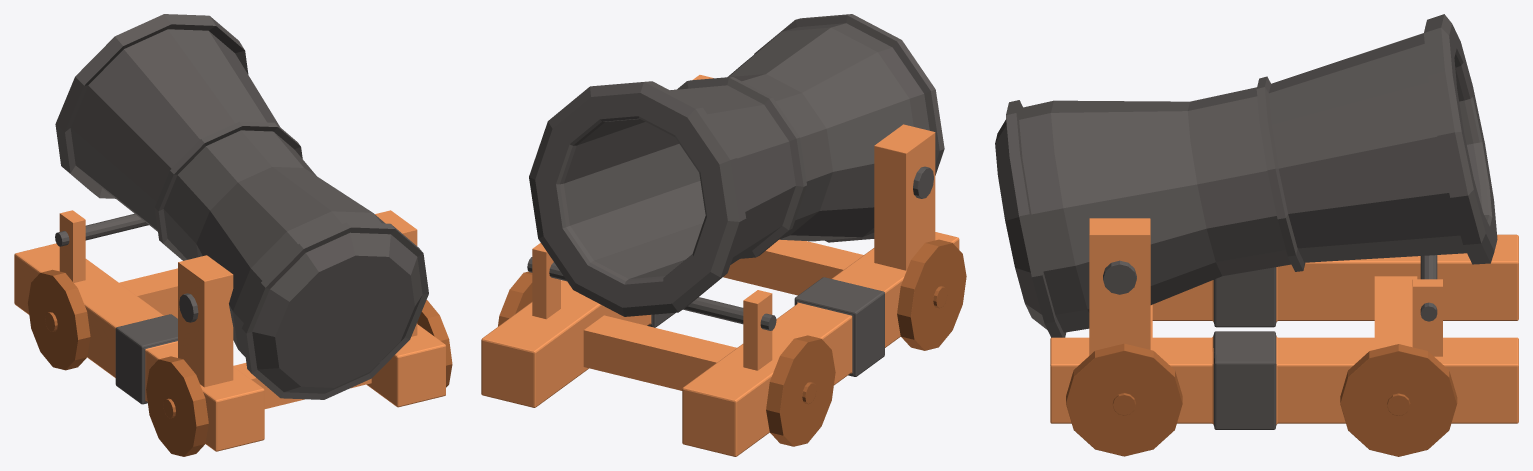
Rendered from Canon1.fbx.
3 views of the same model, side by side, from view 1: azimuth 30°, elevation 25°; view 2: azimuth 150°, elevation 25°; view 3: azimuth 270°, elevation 25° (orthographic). The views are drawn at different scales.
Visible parts, largest first — view 1: Cylinder.004, Cube.001, Cube.004, Cylinder, Cylinder.001, Cube, Cube.002, Cube.006, Cylinder.006, Cylinder.003, Cube.003, Cube.005 (+1 smaller); view 2: Cylinder.004, Cube.001, Cube, Cube.004, Cube.002, Cylinder, Cylinder.001, Cube.003, Cube.006, Cube.007, Cylinder.006, Cylinder.002 (+1 smaller); view 3: Cylinder.004, Cube, Cube.001, Cylinder.002, Cylinder.003, Cube.005, Cube.002, Cube.007, Cylinder.005, Cylinder.006.
Boxes of the visible parts, <box> form: Cylinder.004: <box>55,14,428,399</box>; Cube.001: <box>14,243,264,451</box>; Cube.004: <box>178,255,233,387</box>; Cylinder: <box>27,269,90,370</box>; Cylinder.001: <box>146,356,208,456</box>; Cube: <box>366,324,445,407</box>; Cube.002: <box>119,268,177,318</box>; Cube.006: <box>59,210,85,282</box>; Cylinder.006: <box>55,213,148,246</box>; Cylinder.003: <box>417,300,452,387</box>; Cube.003: <box>233,363,371,408</box>; Cube.005: <box>375,210,417,336</box>; Cylinder.004: <box>529,14,944,316</box>; Cube.001: <box>682,232,959,456</box>; Cube: <box>481,280,675,407</box>; Cube.004: <box>874,124,935,270</box>; Cube.002: <box>583,315,736,390</box>; Cylinder: <box>766,335,835,446</box>; Cylinder.001: <box>897,239,966,350</box>; Cube.003: <box>723,239,863,295</box>; Cube.006: <box>743,290,772,370</box>; Cube.007: <box>532,243,560,319</box>; Cylinder.006: <box>527,257,776,330</box>; Cylinder.002: <box>498,271,532,326</box>; Cylinder.004: <box>995,14,1497,337</box>; Cube: <box>1050,331,1518,429</box>; Cube.001: <box>1152,234,1518,327</box>; Cylinder.002: <box>1340,344,1457,456</box>; Cylinder.003: <box>1066,343,1182,456</box>; Cube.005: <box>1089,218,1150,355</box>; Cube.002: <box>1374,276,1417,337</box>; Cube.007: <box>1412,279,1442,356</box>; Cylinder.005: <box>1103,260,1136,294</box>; Cylinder.006: <box>1420,255,1437,321</box>.
Bounding box in the file's own units: 721 × 808 × 1073.
